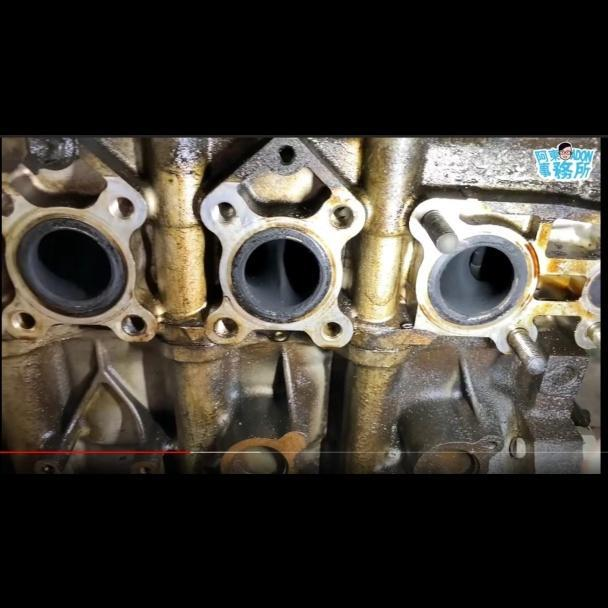hole: (211, 199, 237, 227), (328, 203, 354, 231), (108, 195, 135, 221), (120, 313, 147, 338), (10, 310, 37, 333), (212, 317, 239, 338), (321, 321, 344, 341)
